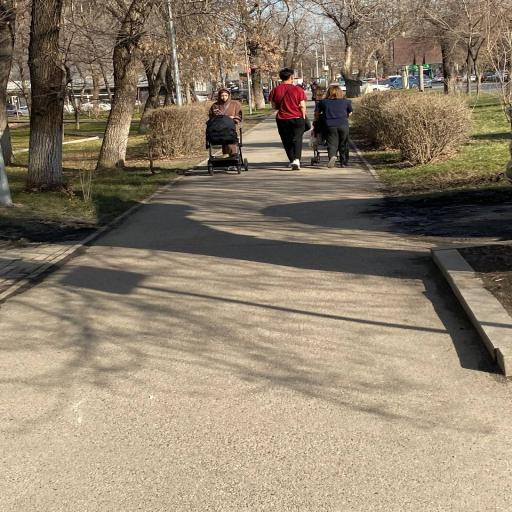crosswalk: (269, 68, 307, 170), (314, 85, 352, 168), (208, 88, 242, 170)
people: (206, 115, 248, 175)
